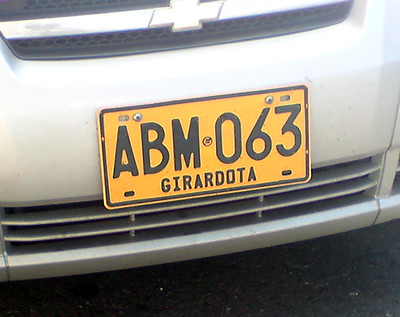placa_carro: (95, 81, 315, 218)
